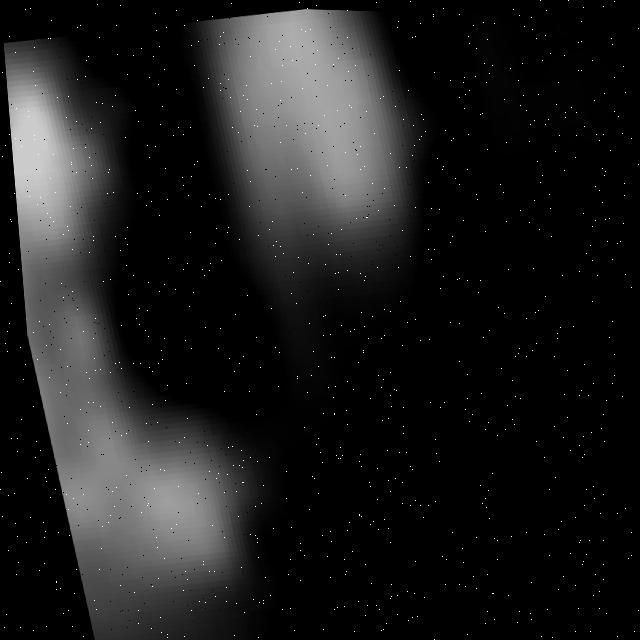person: (2, 23, 266, 640), (182, 5, 485, 362)
